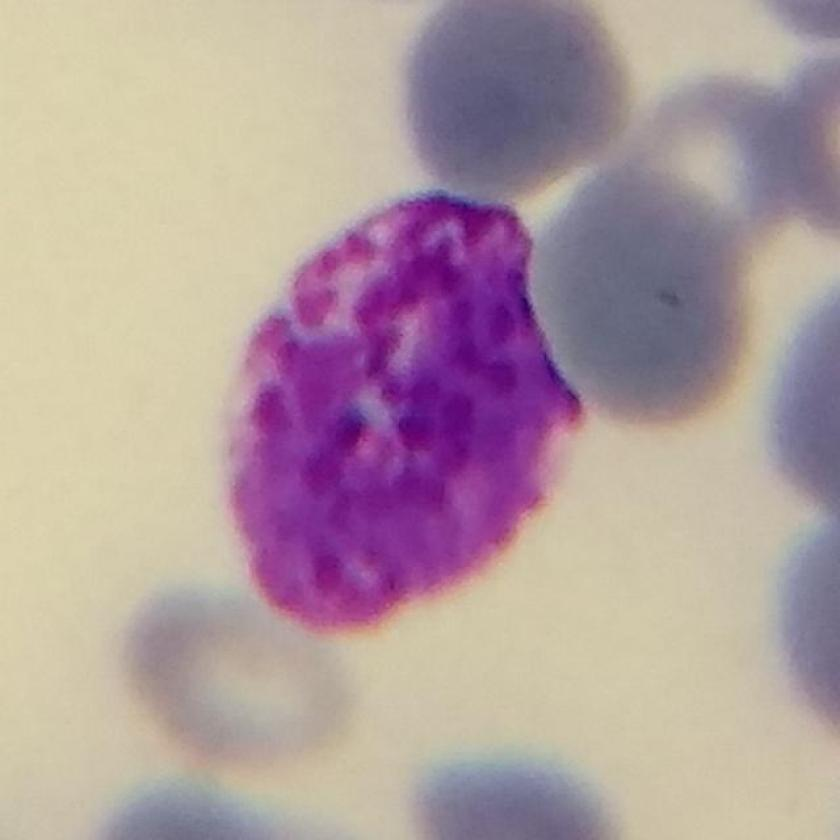basophil: (215, 174, 594, 644)
